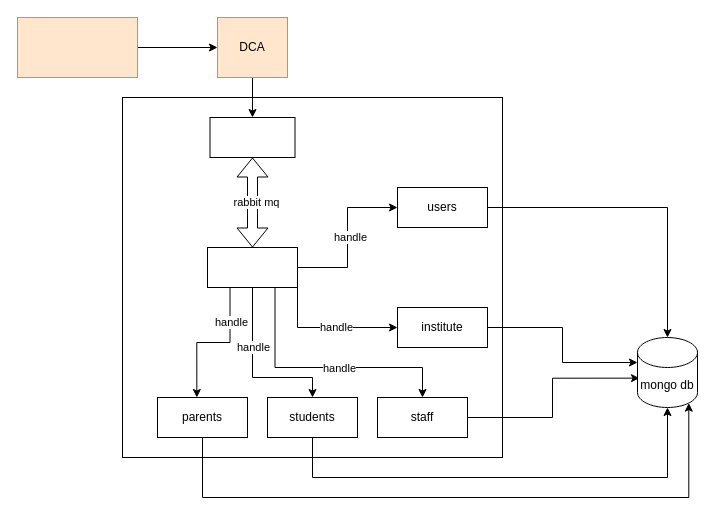
Some shapes in this 715 by 523 pixel diagram are drawn without their labels. Each missing label, with the centre of its shape:
DCA*: the point at 252,137
education: the point at 77,47
vault: the point at 252,267
